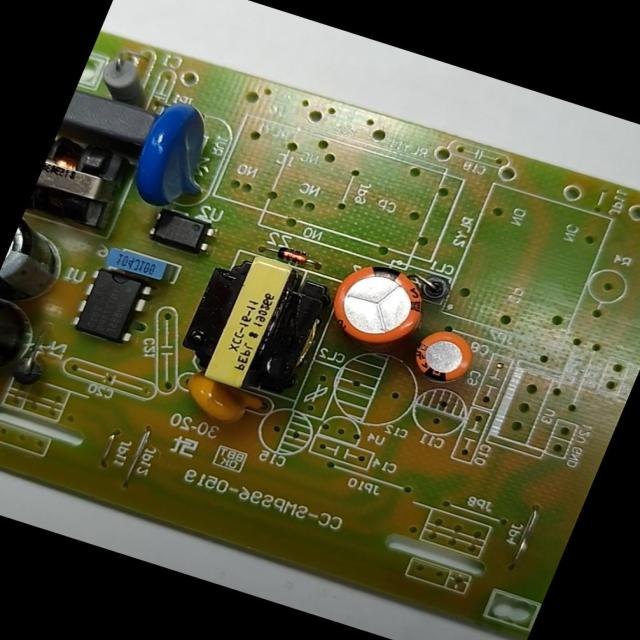Cap1: (318, 252, 438, 359)
Cap2: (402, 322, 484, 392)
Cap3: (0, 212, 79, 308)
Cap4: (0, 290, 45, 386)
MOSFET: (65, 263, 160, 348)
Mov: (121, 90, 238, 219)
Resistor: (90, 50, 164, 109)
Transformer: (169, 243, 344, 405), (26, 130, 136, 234)
